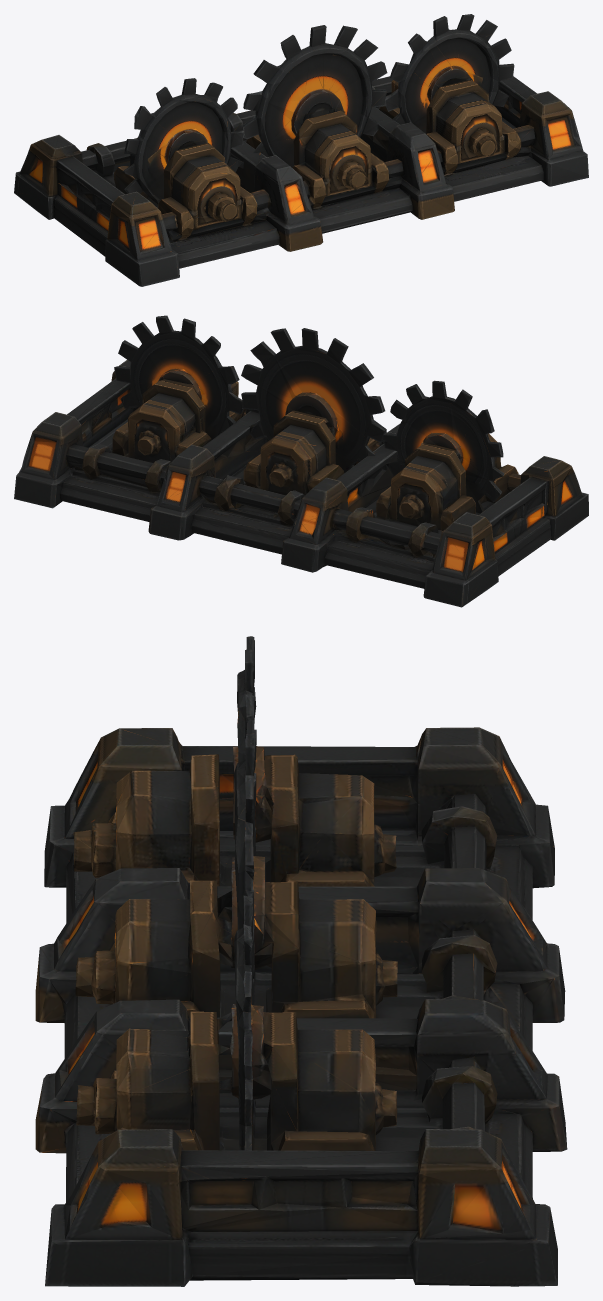
3 views of the same model, one above another, from view 1: azimuth 30°, elevation 25°; view 2: azimuth 150°, elevation 25°; view 3: azimuth 270°, elevation 25° (orthographic). The views are drawn at different scales.
Parts seen in each view (by area): view 1: mesh_node; view 2: mesh_node; view 3: mesh_node.
Boxes of the visible parts, <box> form: mesh_node: <box>14,14,588,286</box>; mesh_node: <box>14,315,588,607</box>; mesh_node: <box>35,636,567,1286</box>.
Bounding box in the file's own units: 2 × 0.7127 × 1.03.
Materials: 1 (1 with a texture image).
